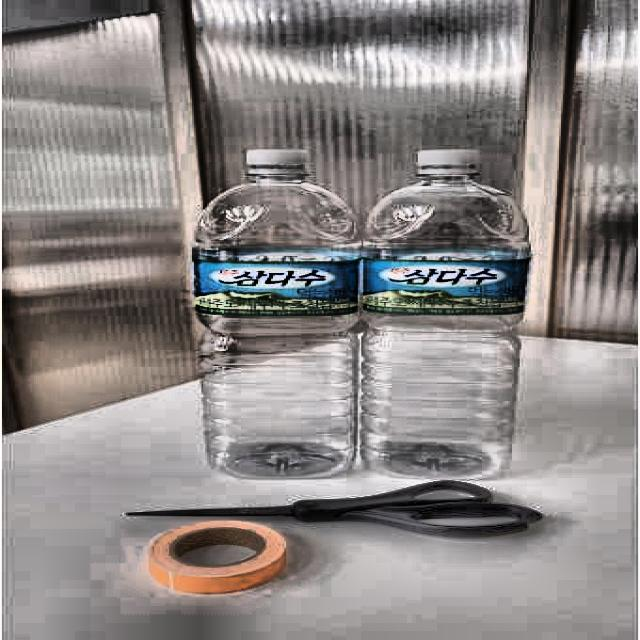Bottles: (176, 145, 375, 492)
